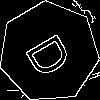D: (24, 26, 81, 81)
